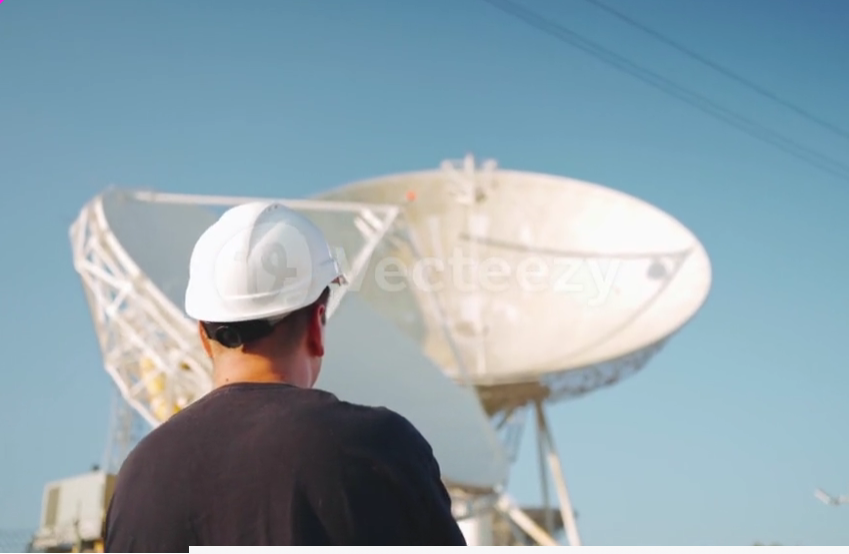safety_helmet: (183, 199, 348, 324)
